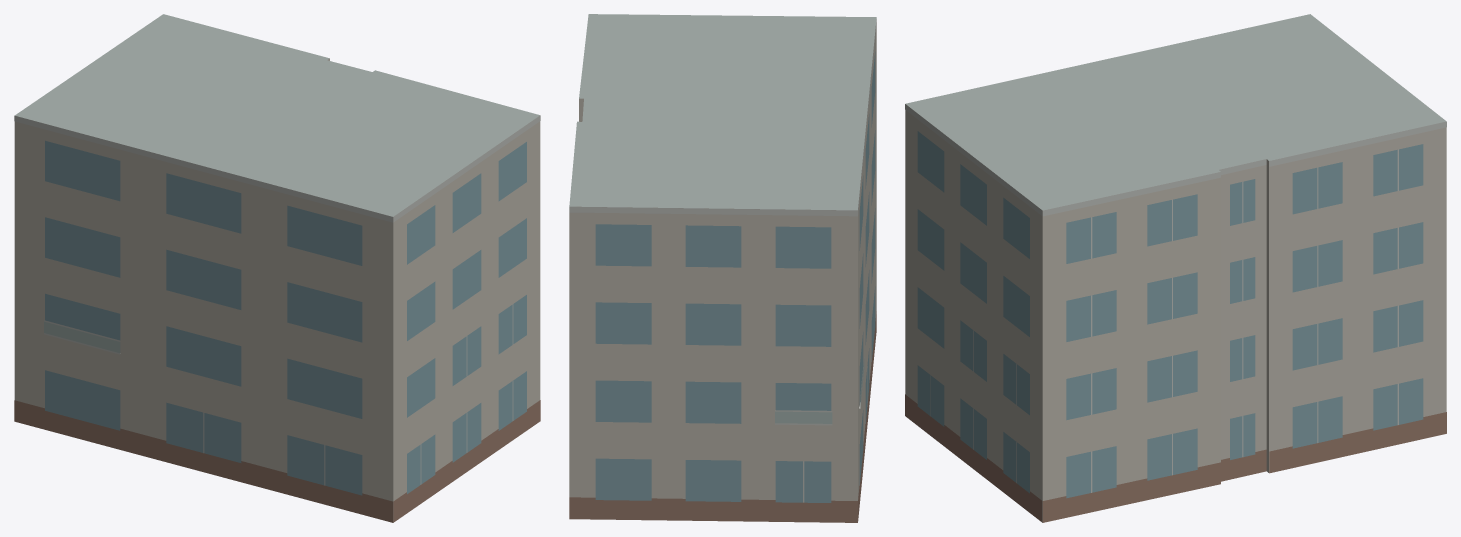
Rendered from survey-upis-32740935.glb.
3 views of the same model, side by side, from view 1: azimuth 30°, elevation 25°; view 2: azimuth 150°, elevation 25°; view 3: azimuth 270°, elevation 25° (orthographic). The views are drawn at different scales.
Visible parts, largest first — view 1: survey-upis-32740935.tmp; view 2: survey-upis-32740935.tmp; view 3: survey-upis-32740935.tmp.
Boxes of the visible parts, box(x1,y1,x2,y2) form: survey-upis-32740935.tmp: box(14, 14, 540, 522); survey-upis-32740935.tmp: box(569, 14, 876, 522); survey-upis-32740935.tmp: box(905, 14, 1446, 522).
Size of the model in its own units: 17.56 by 13 by 20.45.
